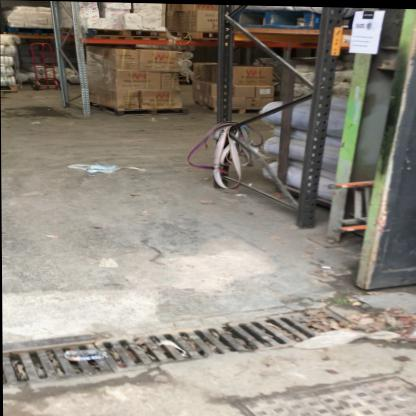vertical_damage: (77, 80, 94, 99)
